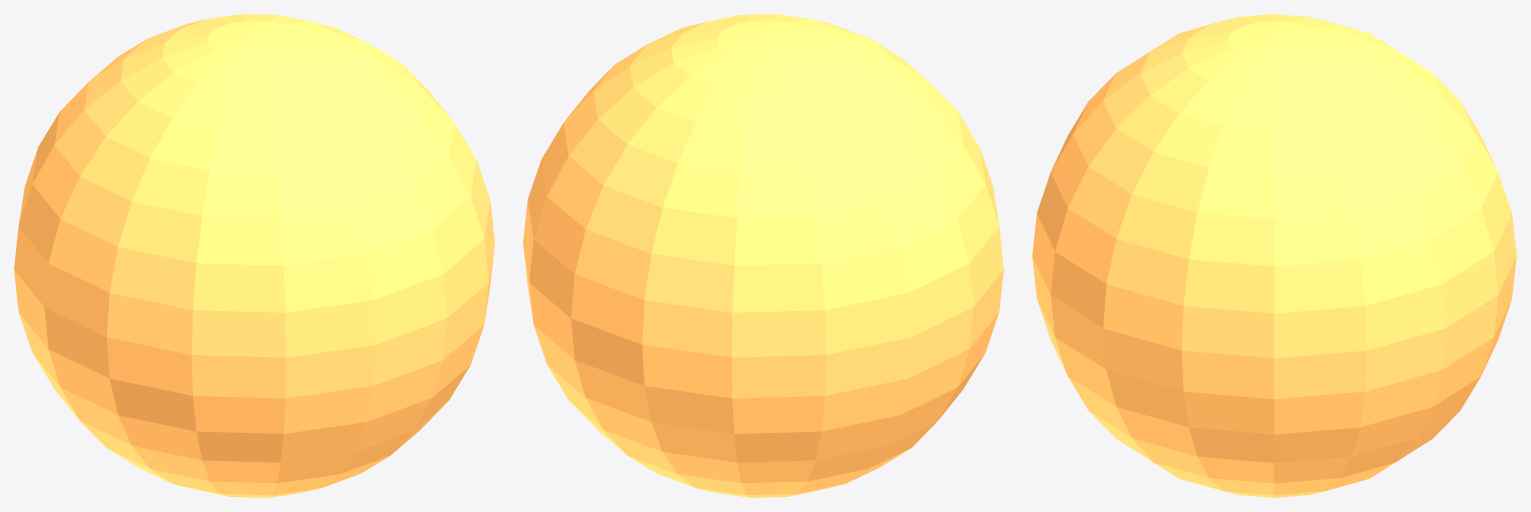
File: Bullet.glb
The picture shows the model from 3 angles, left to right: view 1: azimuth 30°, elevation 25°; view 2: azimuth 150°, elevation 25°; view 3: azimuth 270°, elevation 25°; orthographic projection.
Visible parts, largest first — view 1: Bullet; view 2: Bullet; view 3: Bullet.
Boxes of the visible parts, x1,y1,x2,y2 form: Bullet: (14, 14, 494, 497); Bullet: (523, 14, 1003, 497); Bullet: (1032, 14, 1516, 497).
Size of the model in its own units: 0.3 by 0.3 by 0.3.
Materials: 1 (1 with a texture image).
